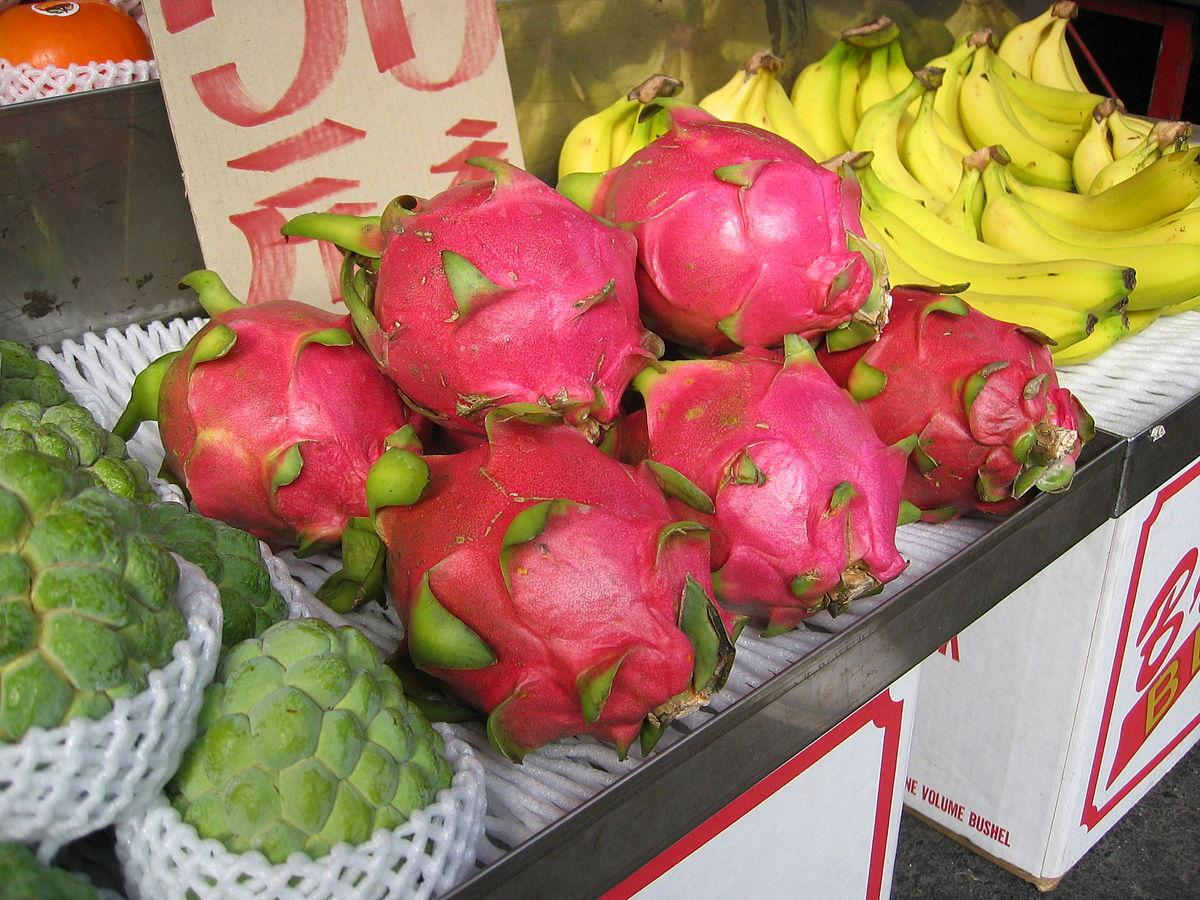thanh_long: (366, 431, 705, 734), (357, 165, 639, 432)
